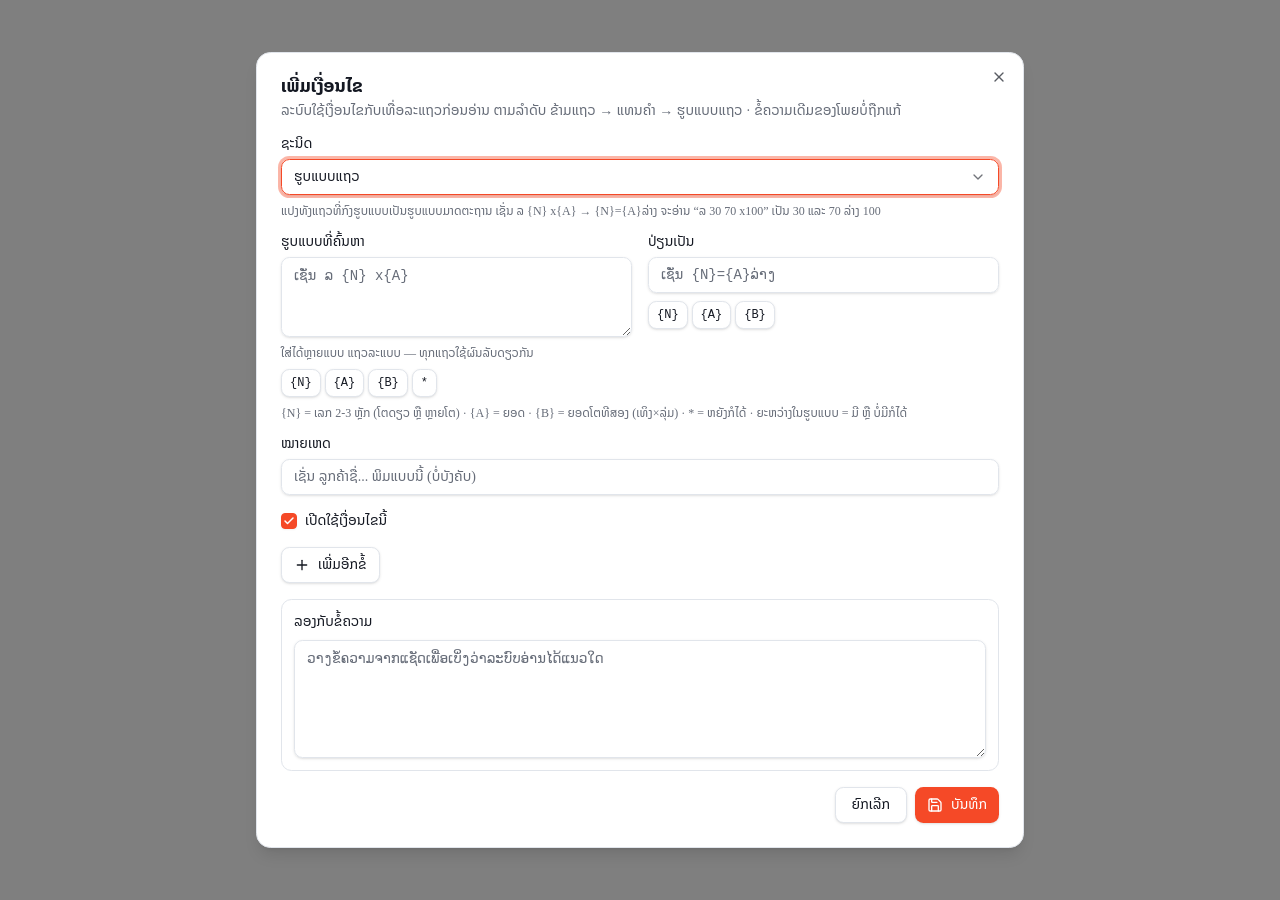
Test case: <ReadRuleDialog /> (เพิ่ม / แก้เงื่อนไขอ่านโพย) › รูปแบบไม่มีช่อง {N}/{A} → ไม่บันทึก และบอกเหตุผล
Type "ລ 30 70" into the text box with placeholder "ເຊັ່ນ ລ {N} x{A}" at (456, 297), box [281,257,632,337]
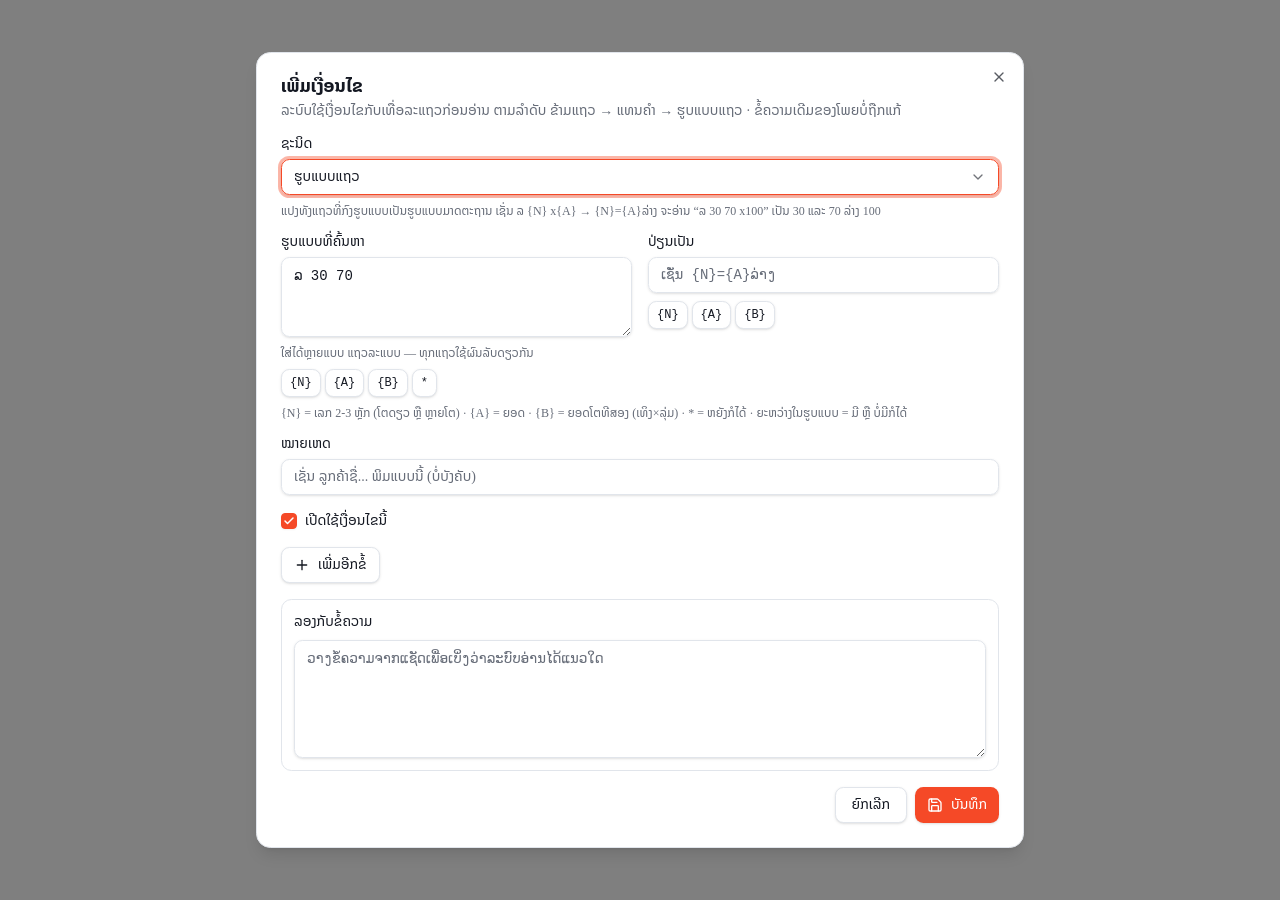
Type "30=100" into the field with placeholder "ເຊັ່ນ {N}={A}ລ່າງ" at (824, 275), box [648,257,999,293]
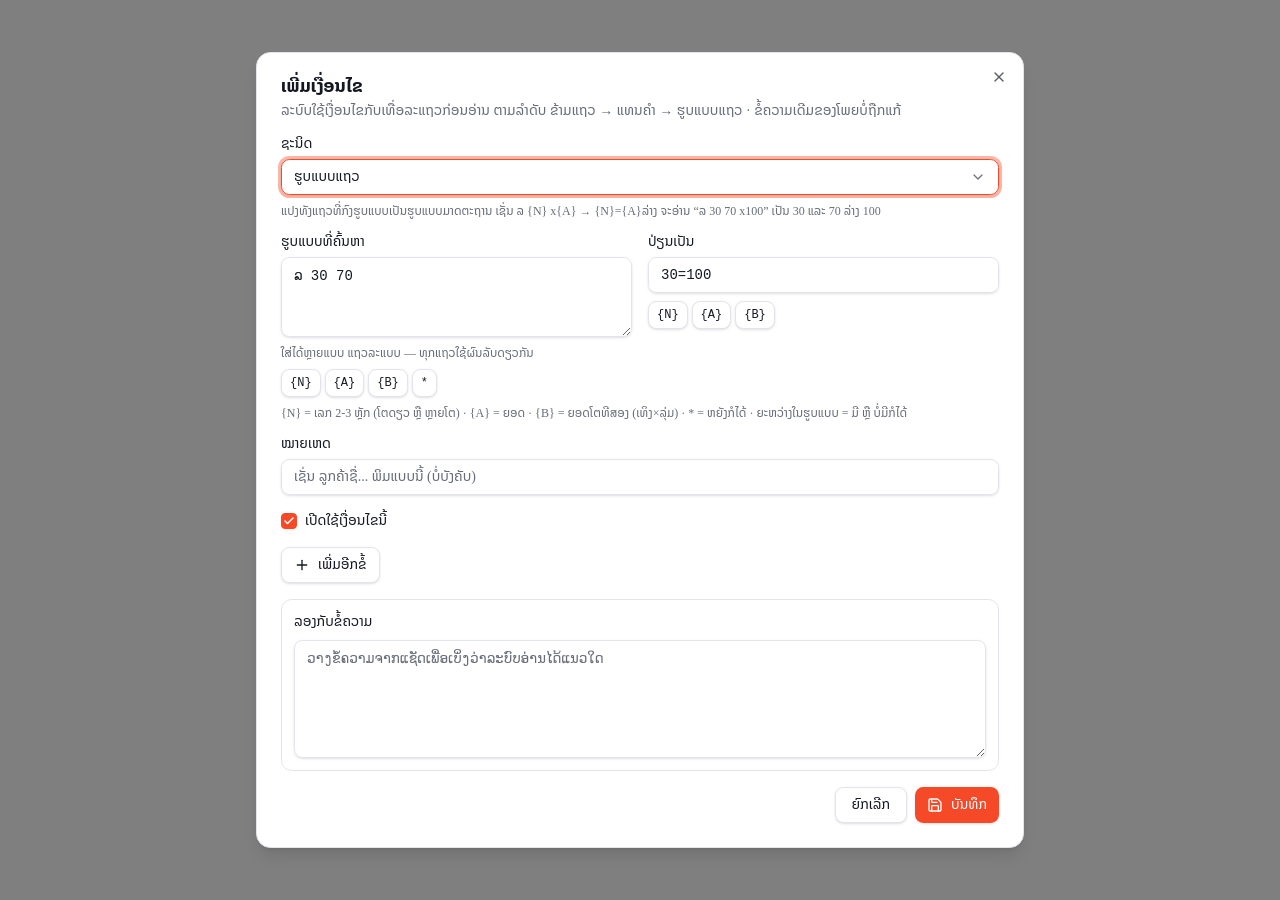
Submit the form, box [281,137,999,823]
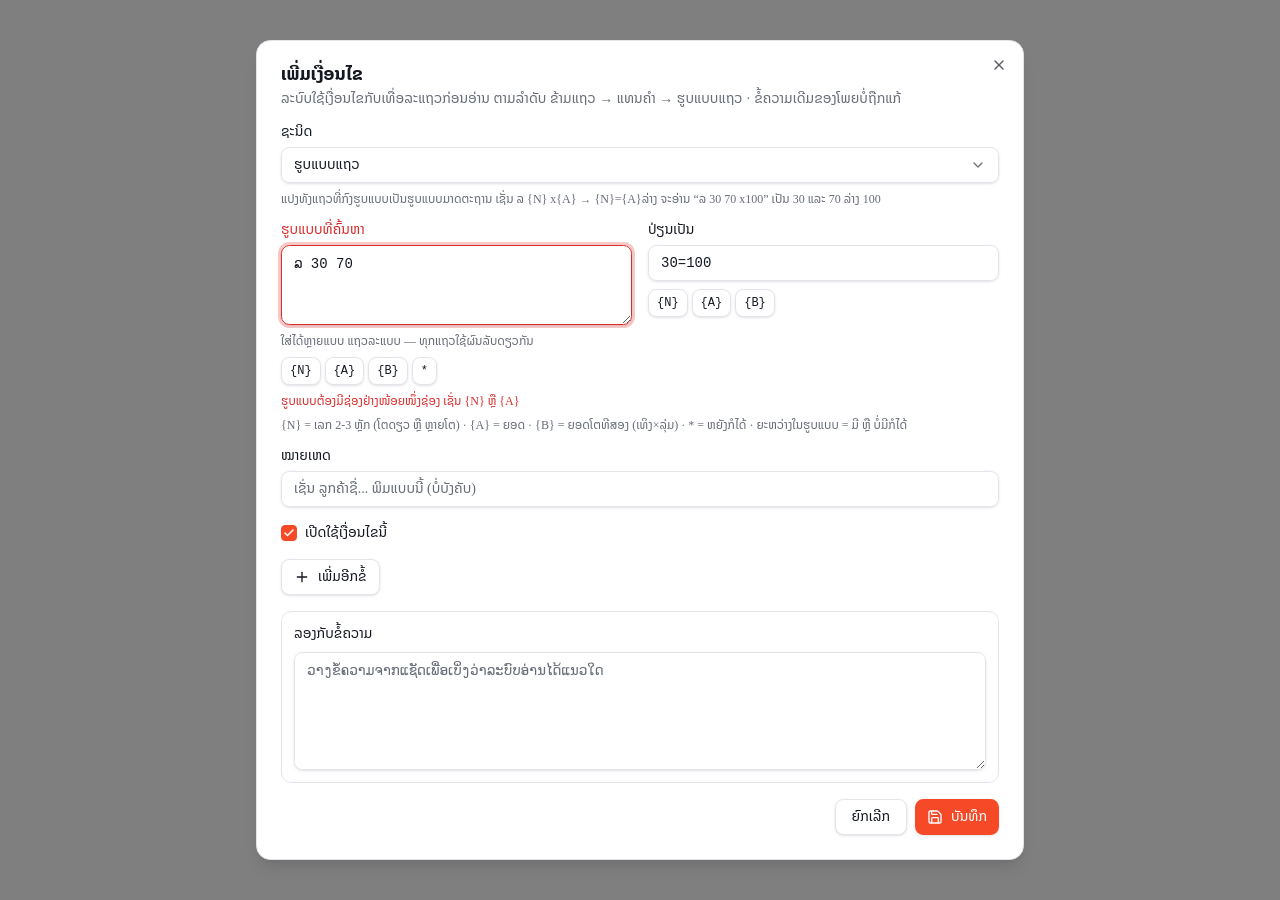
Now the text "ຮູບແບບຕ້ອງມີຊ່ອງຢ່າງໜ້ອຍໜຶ່ງຊ່ອງ ເຊັ່ນ {N} ຫຼື {A}" is shown, box [281,394,520,408]
